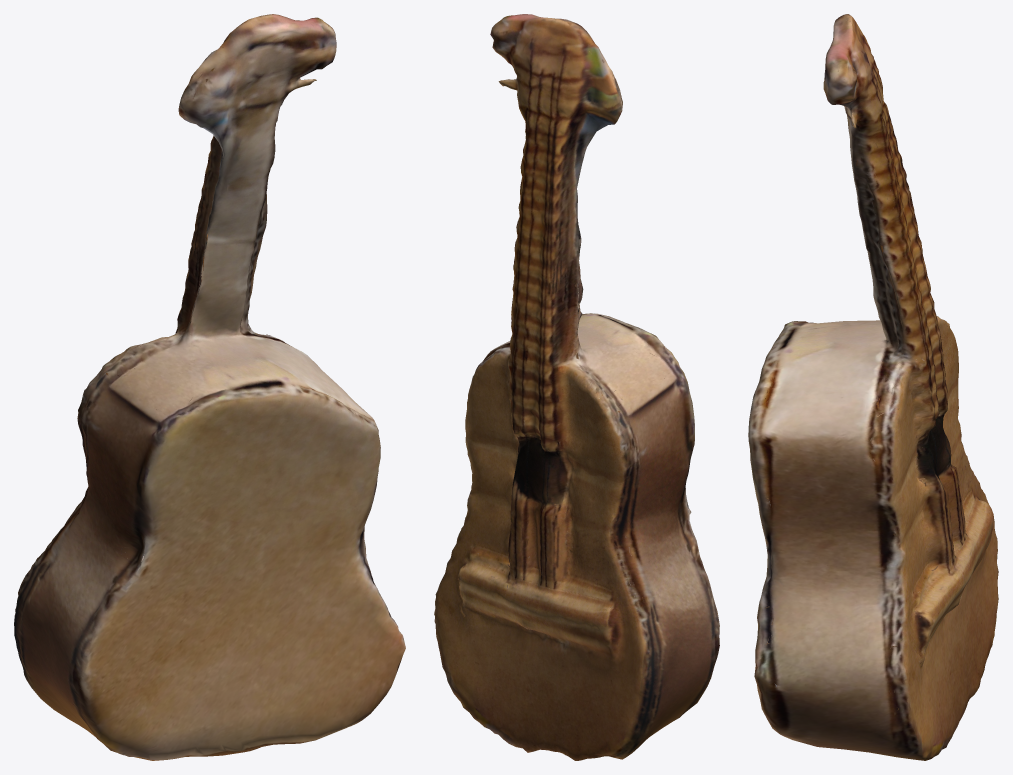
File: guitar.fbx
The picture shows the model from 3 angles, left to right: view 1: azimuth 30°, elevation 25°; view 2: azimuth 150°, elevation 25°; view 3: azimuth 270°, elevation 25°; orthographic projection. The views are drawn at different scales.
Visible parts, largest first — view 1: Guitar; view 2: Guitar; view 3: Guitar.
Part boxes in pixels (x1=…): Guitar: x1=14, y1=14, x2=405, y2=760; Guitar: x1=434, y1=14, x2=719, y2=760; Guitar: x1=748, y1=14, x2=998, y2=760.
Bounding box in the file's own units: 5.04 × 12.57 × 3.91.
